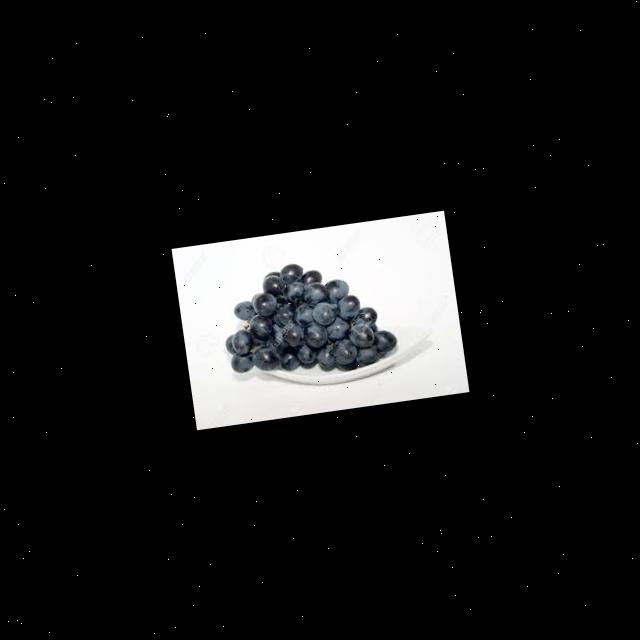grape: (214, 250, 399, 387)
